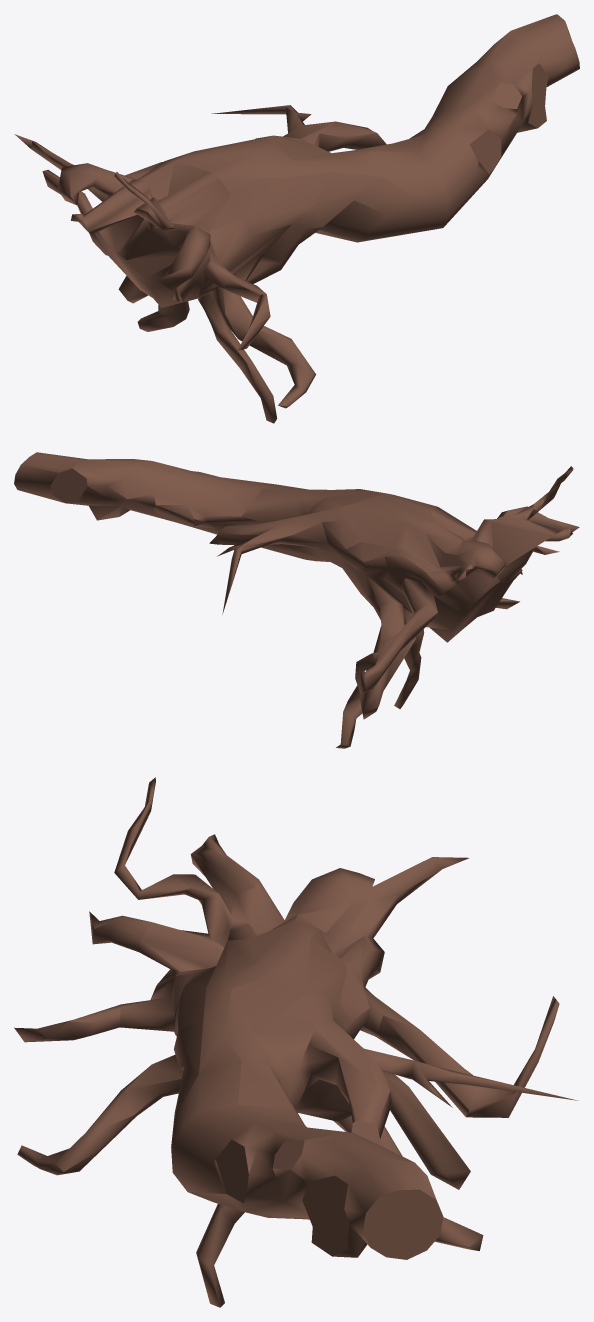
File: forpainter.fbx
The picture shows the model from 3 angles, top to bottom: view 1: azimuth 30°, elevation 25°; view 2: azimuth 150°, elevation 25°; view 3: azimuth 270°, elevation 25°; orthographic projection. The views are drawn at different scales.
Parts seen in each view (by area): view 1: tree; view 2: tree; view 3: tree.
Part boxes in pixels (x1,y1,x2,y2): tree: (14, 14, 579, 423); tree: (14, 452, 579, 748); tree: (14, 777, 578, 1307).
Bounding box in the file's own units: 303 × 157 × 195.
